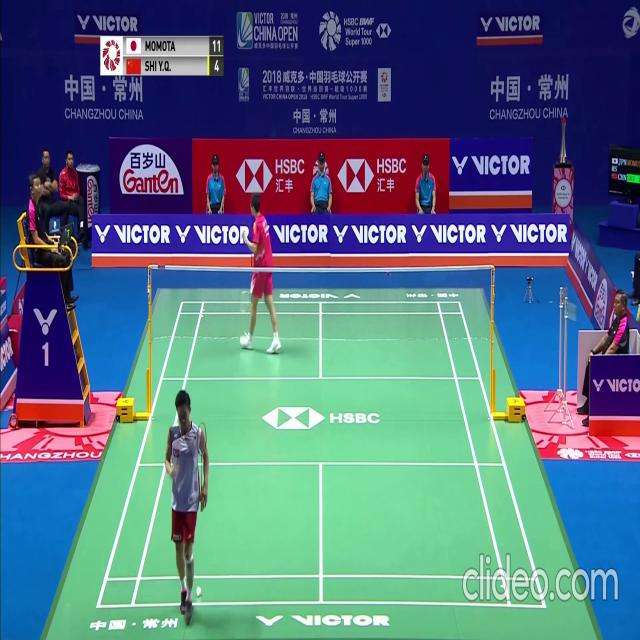Shuttlecock: (196, 586, 201, 593)
